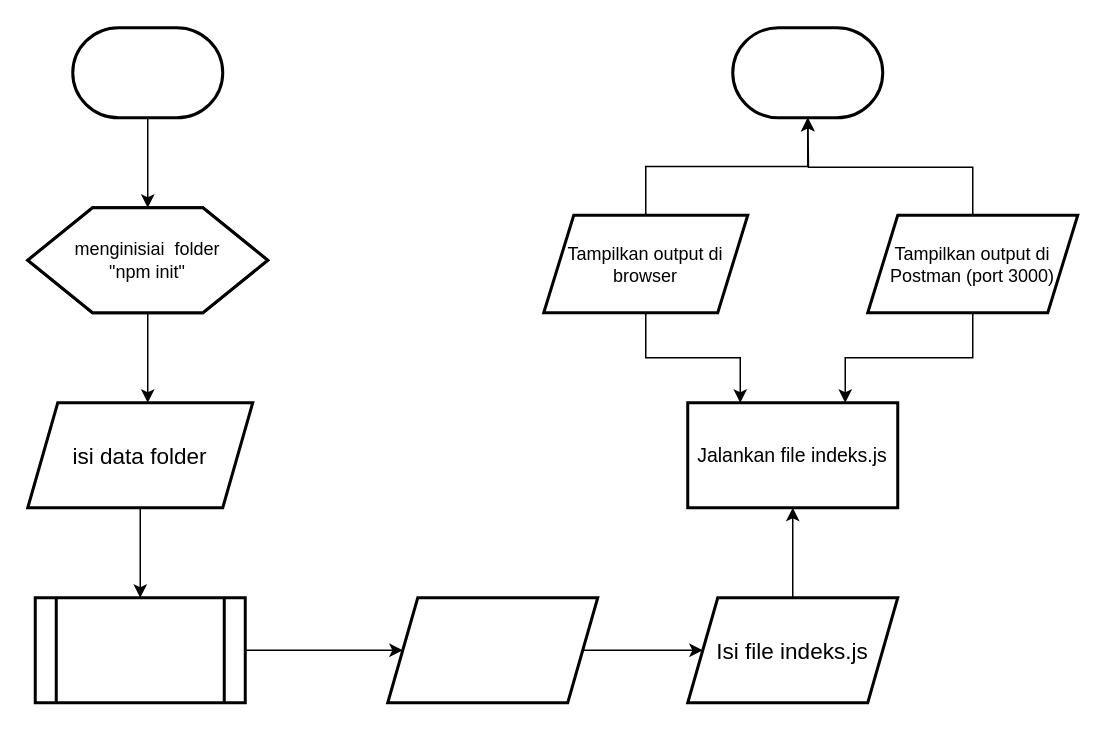
Some shapes in this 1104 by 729 pixel diagram are drawn without their labels. The shapes that lost their labels are listed below. From the top down, each one's centre as x and y in pixels, then its label:
At pixel 147 72: "start".
At pixel 807 72: "end".
At pixel 139 650: "Instal Express (npm i express)".
At pixel 492 650: "Tambah file indeks.js".
